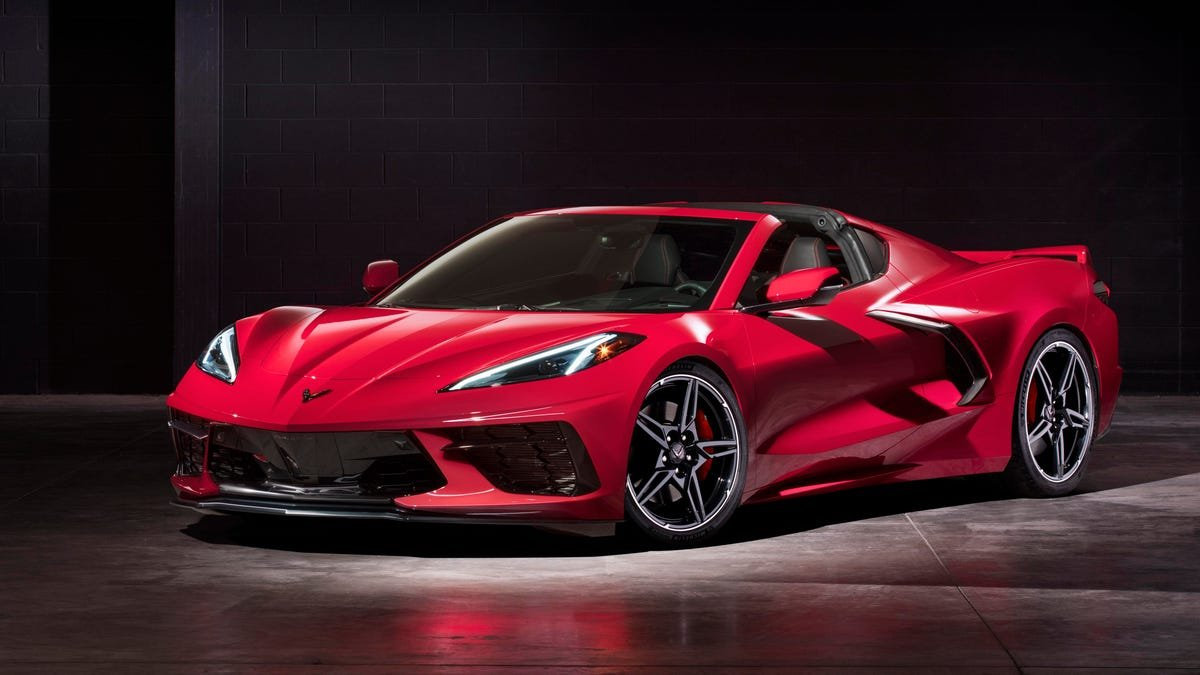mobil: (189, 174, 1156, 540)
